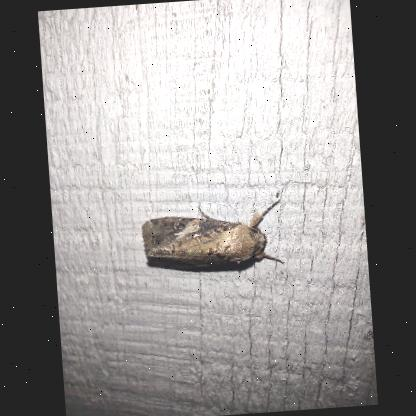Fall Armyworm Moth: (138, 198, 286, 278)
